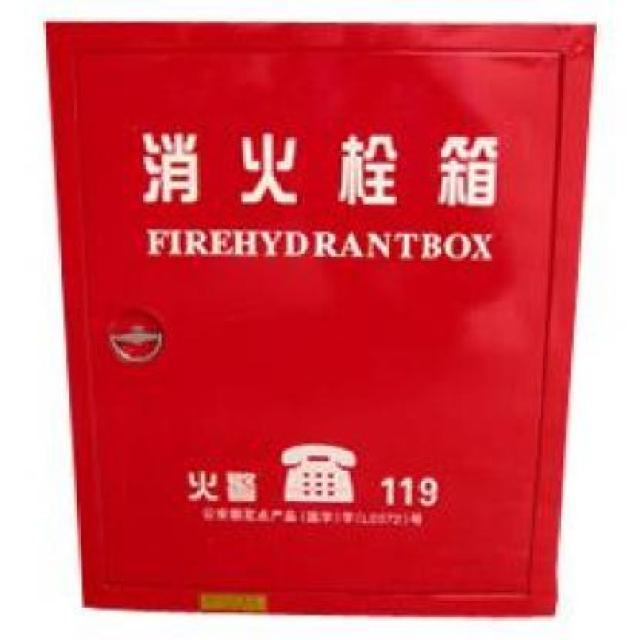firehydrant: (40, 12, 602, 624)
